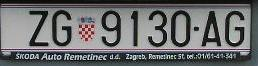-: (193, 25, 201, 33)
0: (171, 9, 191, 47)
1: (130, 10, 139, 47)
3: (148, 9, 168, 48)
9: (100, 10, 121, 48)
A: (202, 12, 222, 47)
G: (51, 10, 72, 48), (225, 11, 245, 47)
Z: (28, 10, 50, 48)
